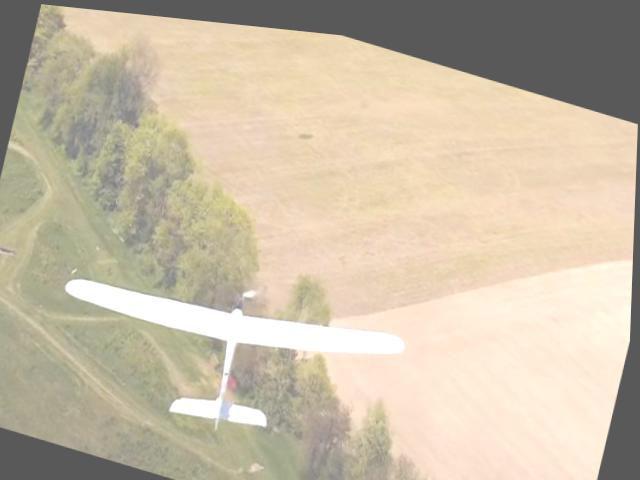iha: (52, 230, 411, 466)
